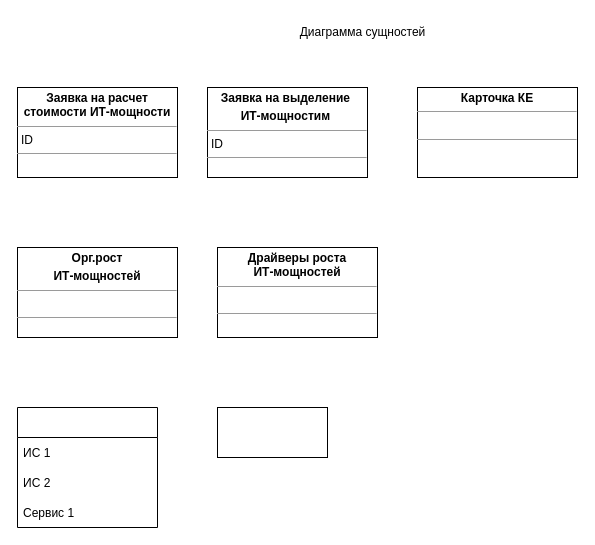
This 595x545 diagram has some shape labels left out. Here are the shapes that lost their labels. From the top down, the box of each, then its label:
(216, 406, 328, 458): Шаблон роли
(16, 406, 158, 528): Перечень ИС
